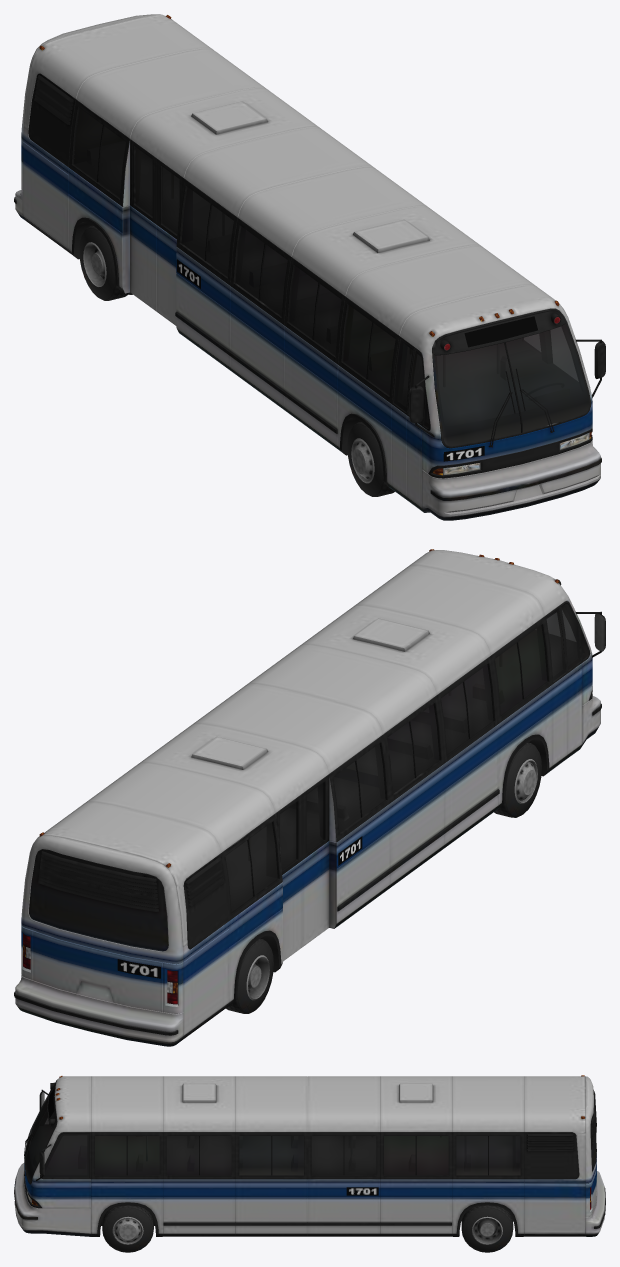
The model's file is veh-colectivo.glb.
3 views of the same model, one above another, from view 1: azimuth 30°, elevation 25°; view 2: azimuth 150°, elevation 25°; view 3: azimuth 270°, elevation 25° (orthographic). The views are drawn at different scales.
Visible parts, largest first — view 1: citybus; view 2: citybus; view 3: citybus.
Boxes of the visible parts, left/top/right/bottom form: citybus: left=14, top=14, right=605, bottom=520; citybus: left=14, top=549, right=605, bottom=1046; citybus: left=14, top=1075, right=605, bottom=1252.
Size of the model in its own units: 2.54 by 2.52 by 9.95.
5 materials, 4 textured.
